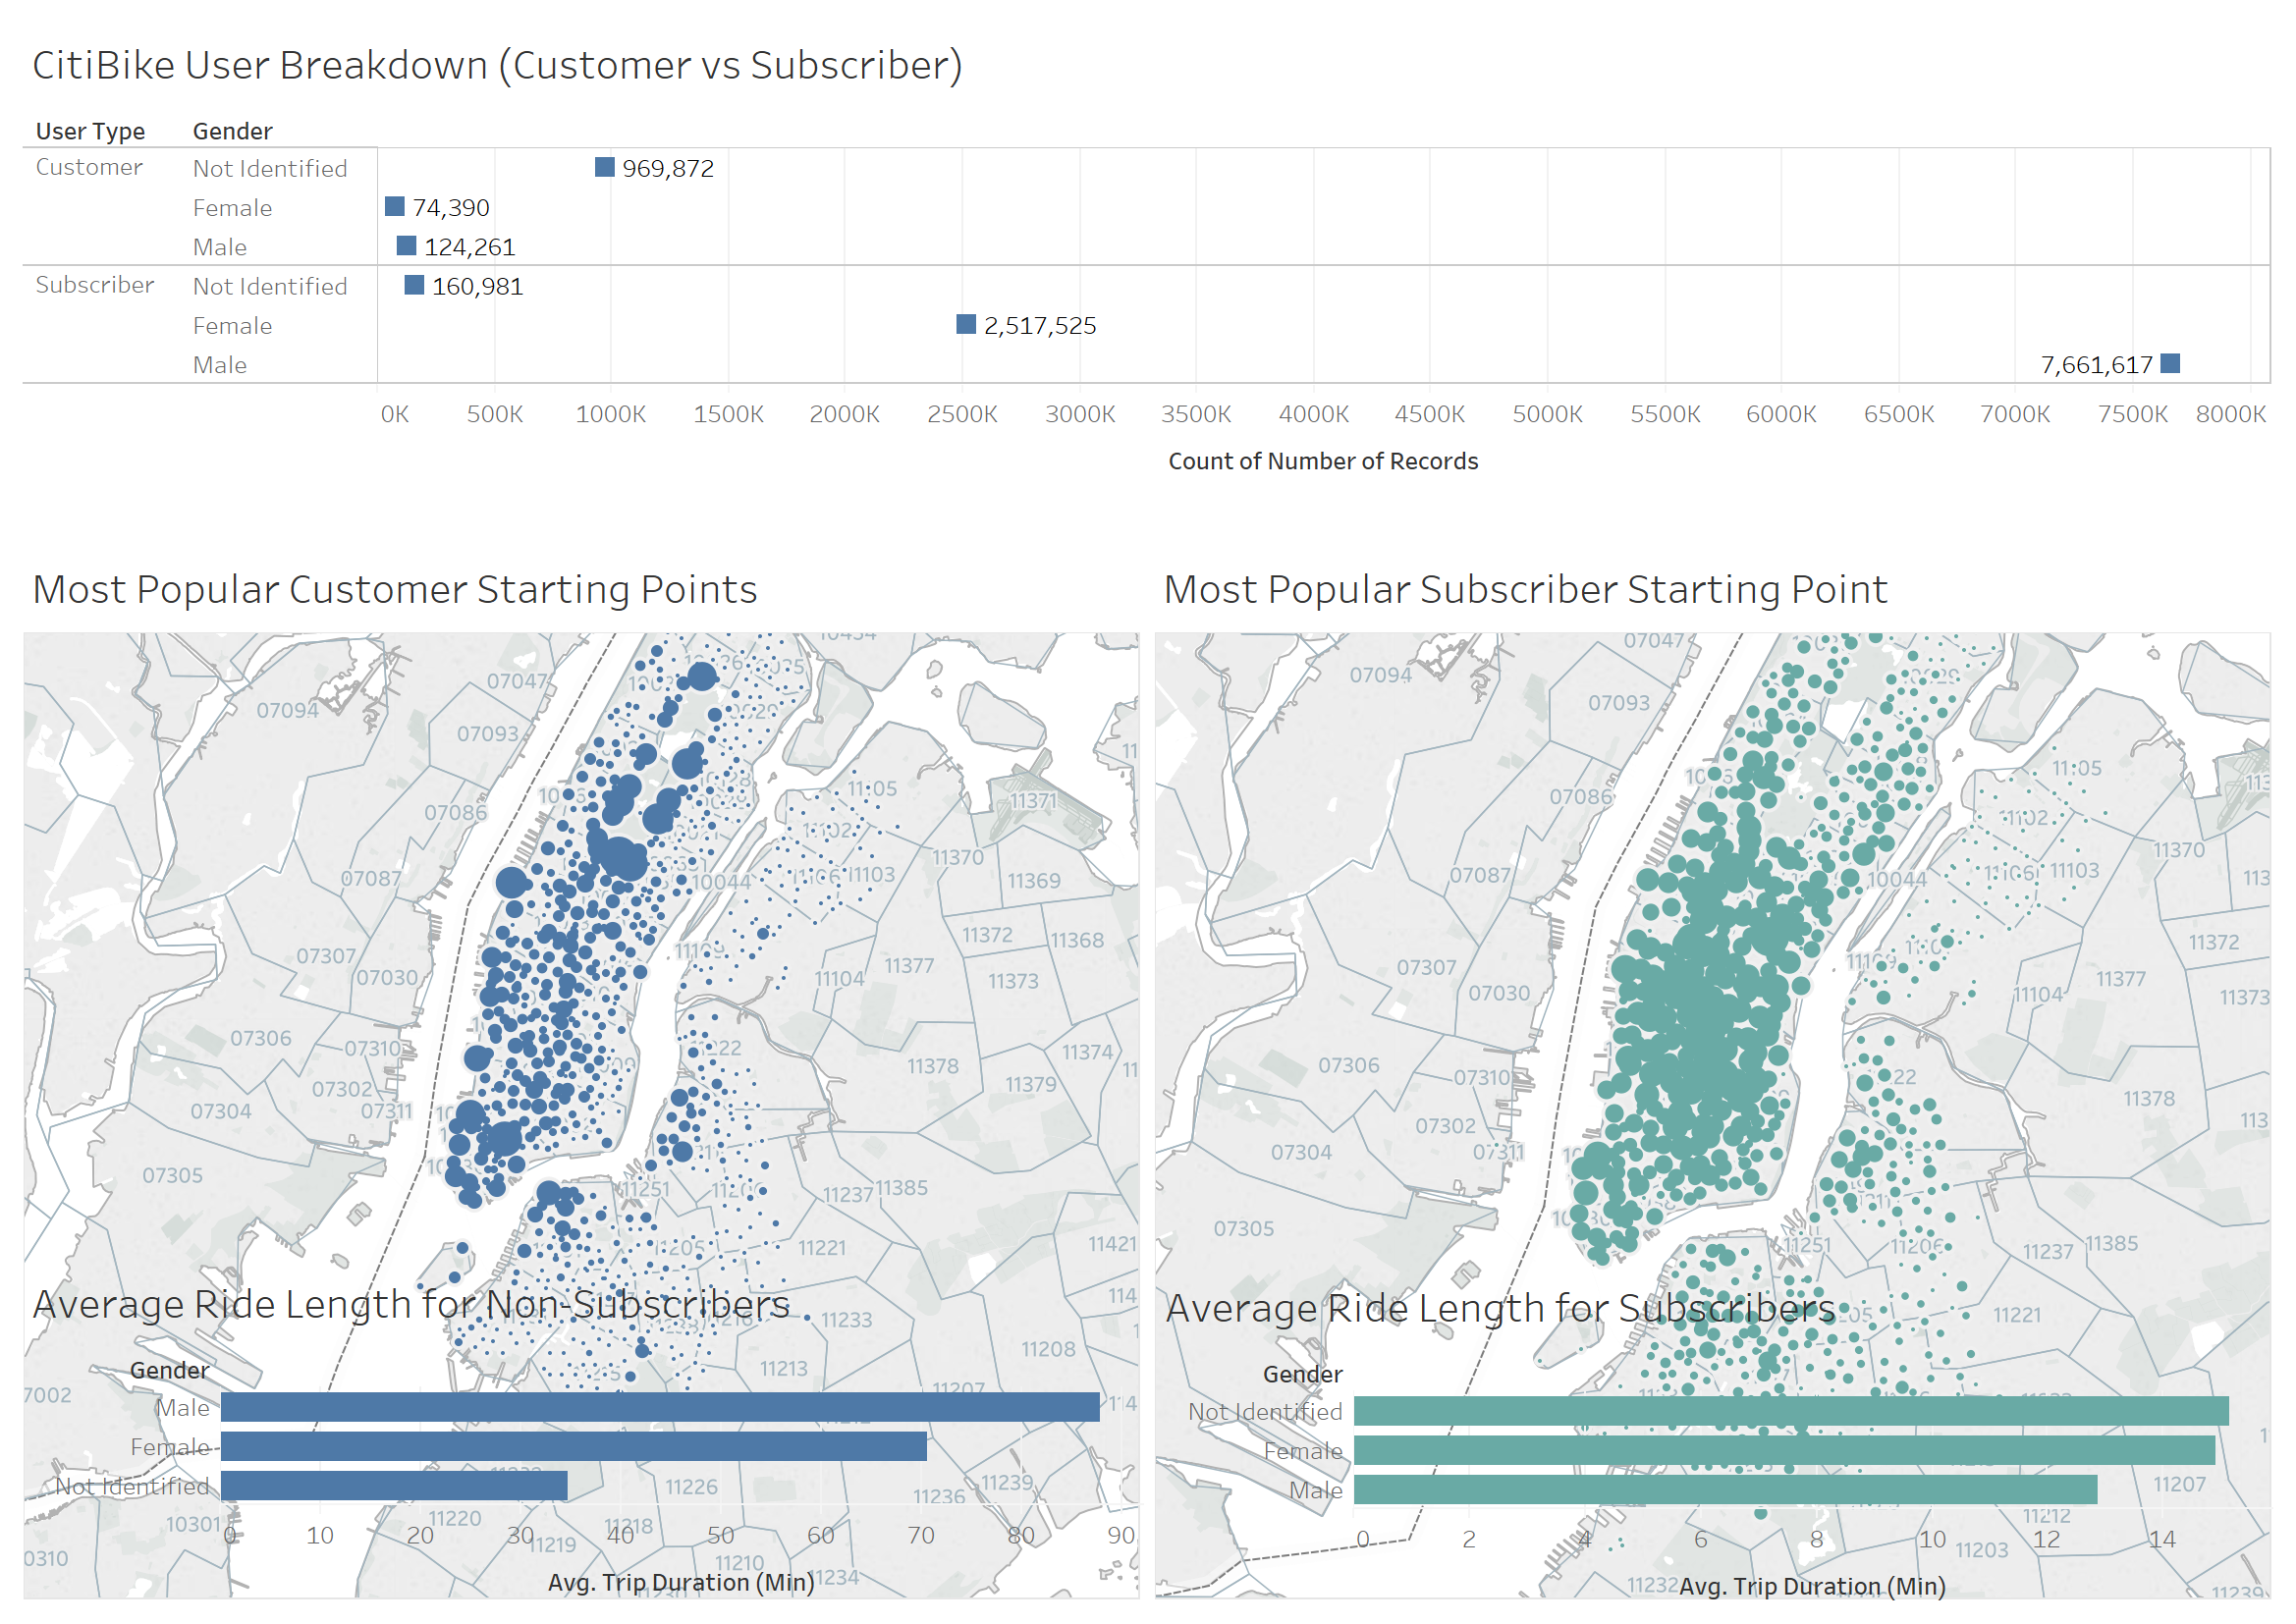

What the dashboard file says about the page in this screenshot:
{"tool":"tableau","page":{"name":"Cust_vs_Sub","canvas":[1169,827],"ordinal":0},"visuals":[{"type":"worksheet","title":"Sheet 5","mark":"Square","rows":["User Type","Gender"],"cols":["Number of Records"],"box":[8,8,1153,266.9]},{"type":"worksheet","title":"Sheet 1","mark":"Automatic","rows":["Start Station Latitude"],"cols":["Start Station Longitude"],"box":[8,274.9,576.5,544.1]},{"type":"worksheet","title":"Sheet 2","mark":"Automatic","rows":["Start Station Latitude"],"cols":["Start Station Longitude"],"box":[584.5,274.9,576.5,544.1]}]}

Visuals, with their boxes in screenshot pixels (x1, y1, x2, y2), scaled from the page's 1169x827 canvas onto the 2296x1624 screenshot:
"Sheet 5" worksheet (Square marks): left=16, top=16, right=2280, bottom=540
"Sheet 1" worksheet: left=16, top=540, right=1148, bottom=1608
"Sheet 2" worksheet: left=1148, top=540, right=2280, bottom=1608
